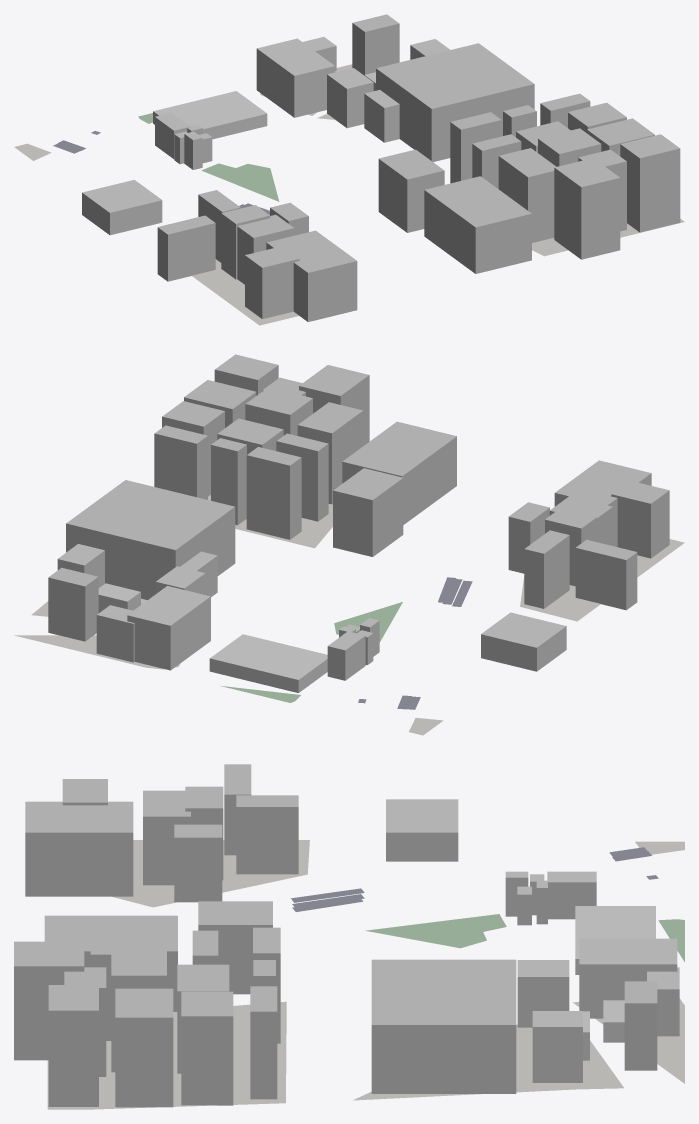
The model's file is 115_85_mid.glb.
3 views of the same model, one above another, from view 1: azimuth 30°, elevation 25°; view 2: azimuth 150°, elevation 25°; view 3: azimuth 270°, elevation 25° (orthographic). The views are drawn at different scales.
Size of the model in its own units: 528 by 84.73 by 526.
